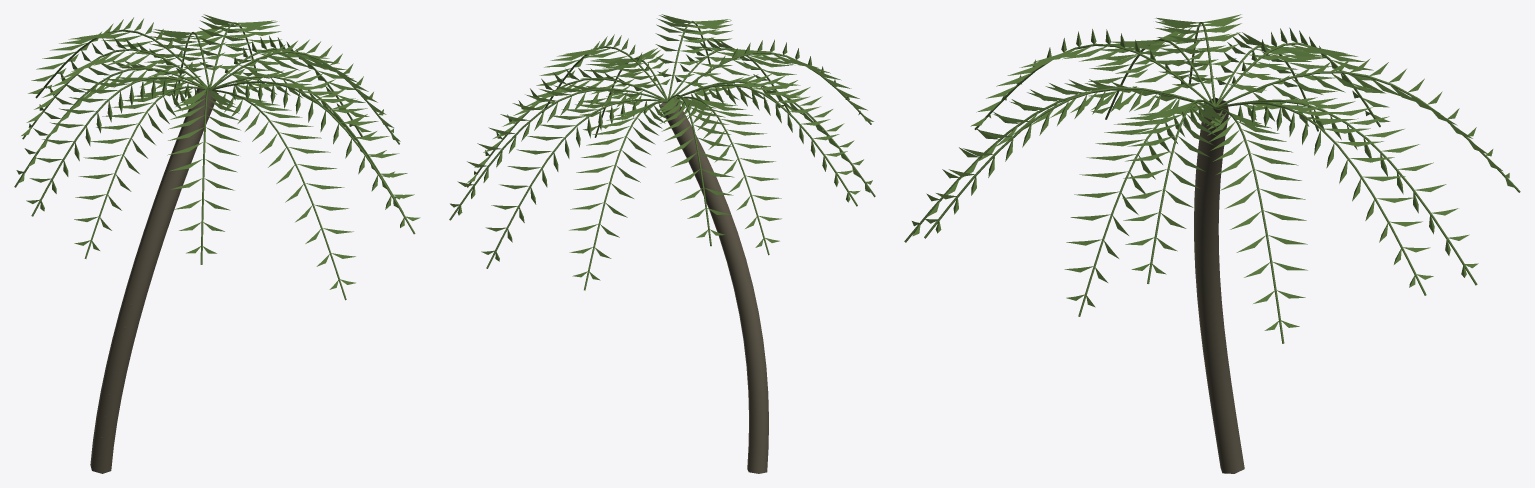
Rendered from prop_palm_b.glb.
The picture shows the model from 3 angles, left to right: view 1: azimuth 30°, elevation 25°; view 2: azimuth 150°, elevation 25°; view 3: azimuth 270°, elevation 25°; orthographic projection. The views are drawn at different scales.
Parts seen in each view (by area): view 1: base__art06_leaf_sun, base__art06_weathered_bark; view 2: base__art06_leaf_sun, base__art06_weathered_bark; view 3: base__art06_leaf_sun, base__art06_weathered_bark.
Part boxes in pixels (<box>): base__art06_leaf_sun: <box>14,14,420,300</box>; base__art06_weathered_bark: <box>90,88,218,473</box>; base__art06_leaf_sun: <box>449,14,875,290</box>; base__art06_weathered_bark: <box>659,100,768,473</box>; base__art06_leaf_sun: <box>904,14,1520,343</box>; base__art06_weathered_bark: <box>1194,97,1244,473</box>.
Bounding box in the file's own units: 11.4 × 11.46 × 14.03.
